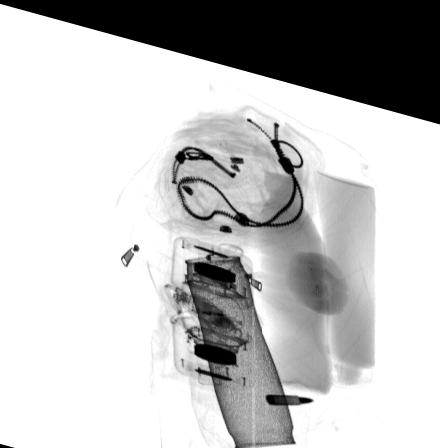Bullet: (263, 379, 315, 390)
